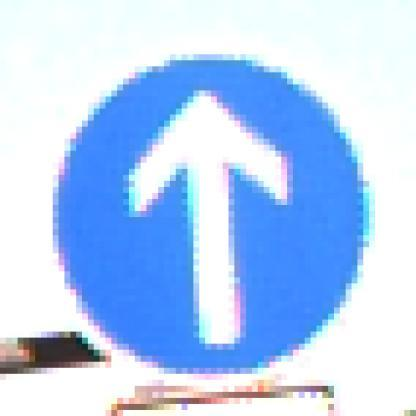straight: (41, 48, 387, 386)
